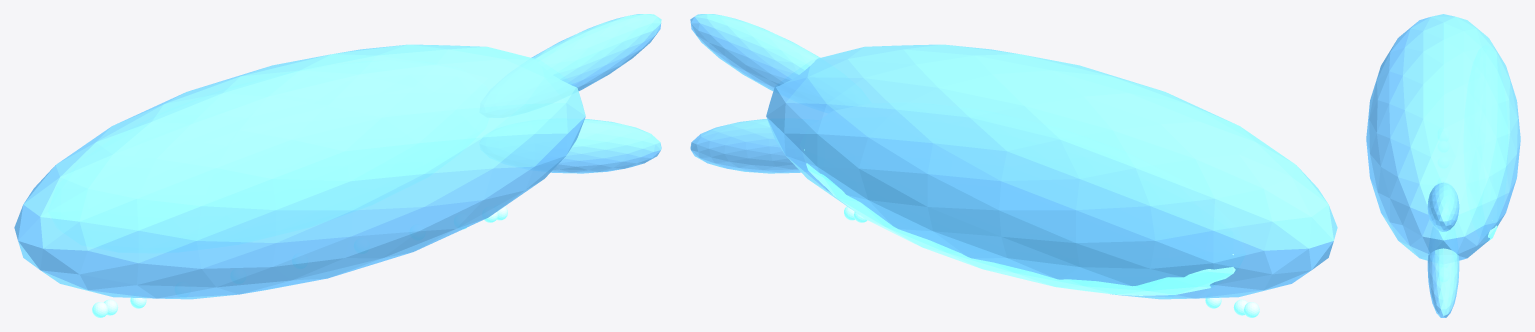
The model's file is 13_Sky_Whale.glb.
3 renders of one model, left to right at view 1: azimuth 30°, elevation 25°; view 2: azimuth 150°, elevation 25°; view 3: azimuth 270°, elevation 25°, orthographic. The views are drawn at different scales.
Parts seen in each view (by area): view 1: 13_Sky_Whale_00, 13_Sky_Whale_03, 13_Sky_Whale_02; view 2: 13_Sky_Whale_00, 13_Sky_Whale_03, 13_Sky_Whale_01, 13_Sky_Whale_02; view 3: 13_Sky_Whale_00, 13_Sky_Whale_02, 13_Sky_Whale_03.
Boxes of the visible parts, x1,y1,x2,y2 form: 13_Sky_Whale_00: [14, 44, 585, 299]; 13_Sky_Whale_03: [531, 14, 661, 90]; 13_Sky_Whale_02: [551, 119, 661, 173]; 13_Sky_Whale_00: [766, 44, 1337, 299]; 13_Sky_Whale_03: [690, 14, 820, 90]; 13_Sky_Whale_01: [804, 149, 1235, 295]; 13_Sky_Whale_02: [690, 119, 800, 173]; 13_Sky_Whale_00: [1366, 14, 1520, 260]; 13_Sky_Whale_02: [1427, 248, 1459, 317]; 13_Sky_Whale_03: [1427, 182, 1459, 231].
Bounding box in the file's own units: 10.95 × 3.3 × 3.1.
